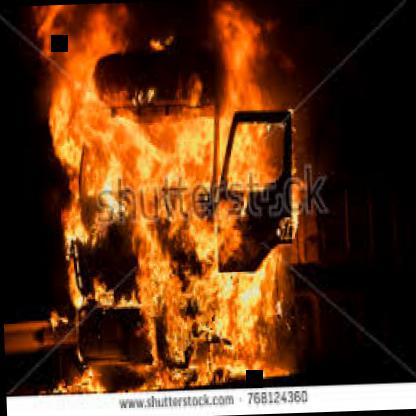fire: (51, 15, 298, 374)
